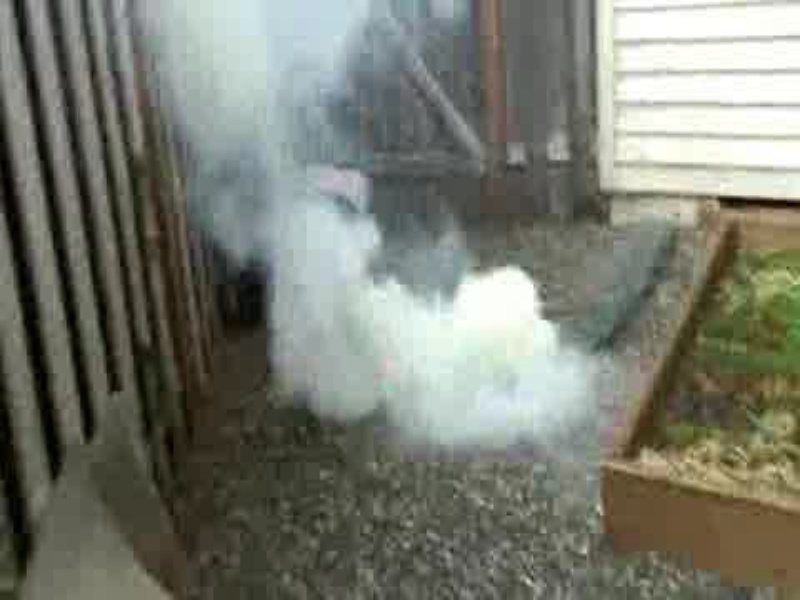smoke: (237, 207, 576, 428)
